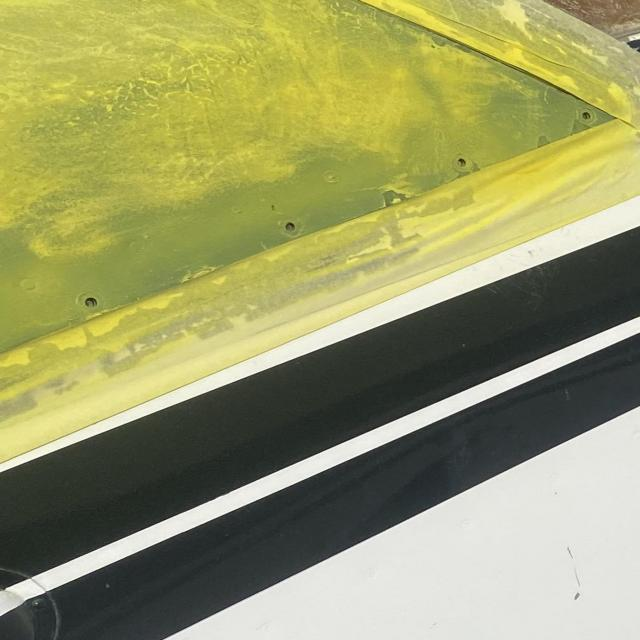Missing-head: (452, 156, 473, 171), (81, 295, 98, 310), (284, 221, 299, 233), (580, 110, 594, 121)
